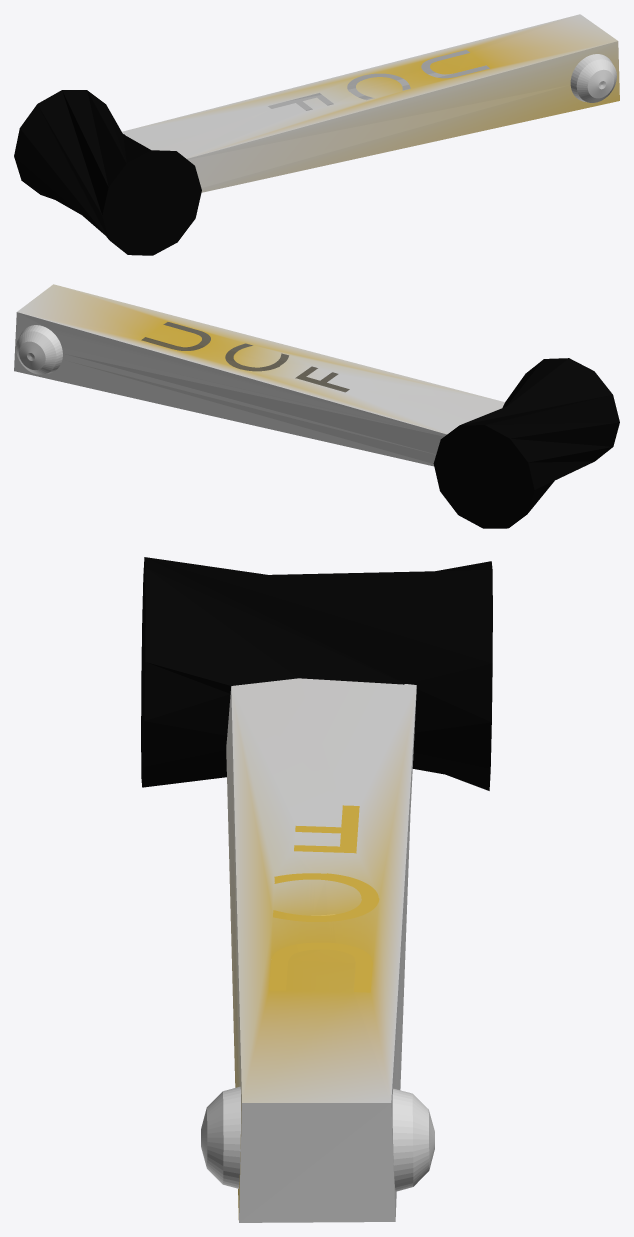
Rendered from drum_arm.dae.
3 views of the same model, one above another, from view 1: azimuth 30°, elevation 25°; view 2: azimuth 150°, elevation 25°; view 3: azimuth 270°, elevation 25° (orthographic). The views are drawn at different scales.
Visible parts, largest first — view 1: drum_arm; view 2: drum_arm; view 3: drum_arm.
Boxes of the visible parts, x1,y1,x2,y2 form: drum_arm: (14, 14, 619, 255); drum_arm: (14, 284, 619, 528); drum_arm: (141, 557, 492, 1222).
Size of the model in its own units: 0.542 by 0.1519 by 0.1025.
